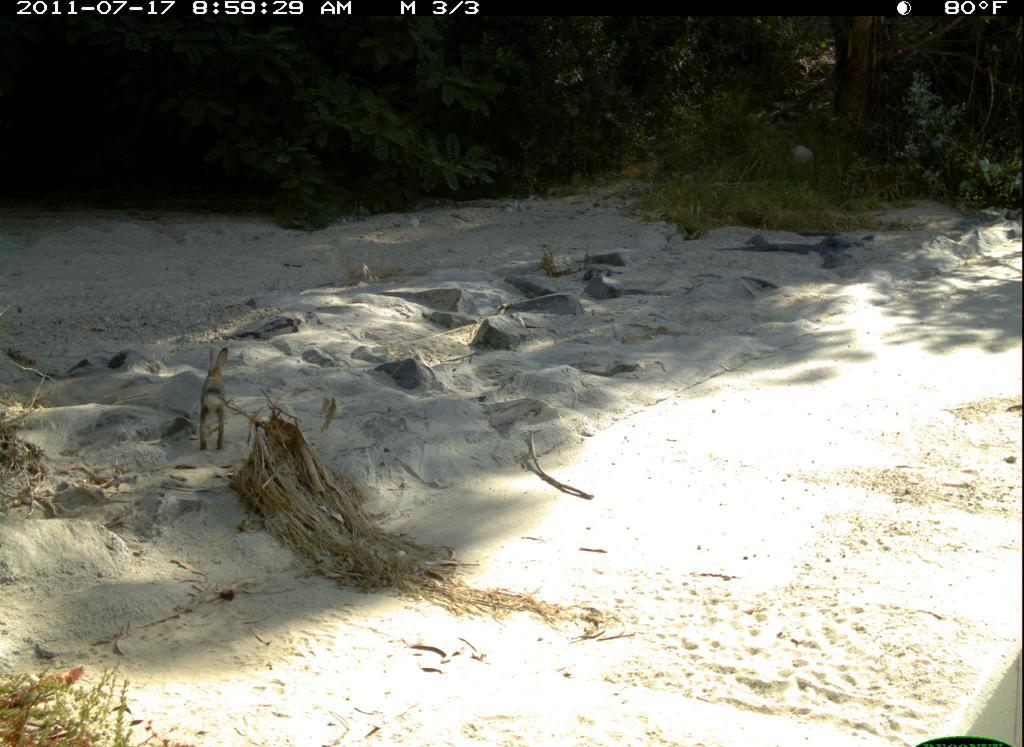rabbit: (186, 337, 239, 457)
